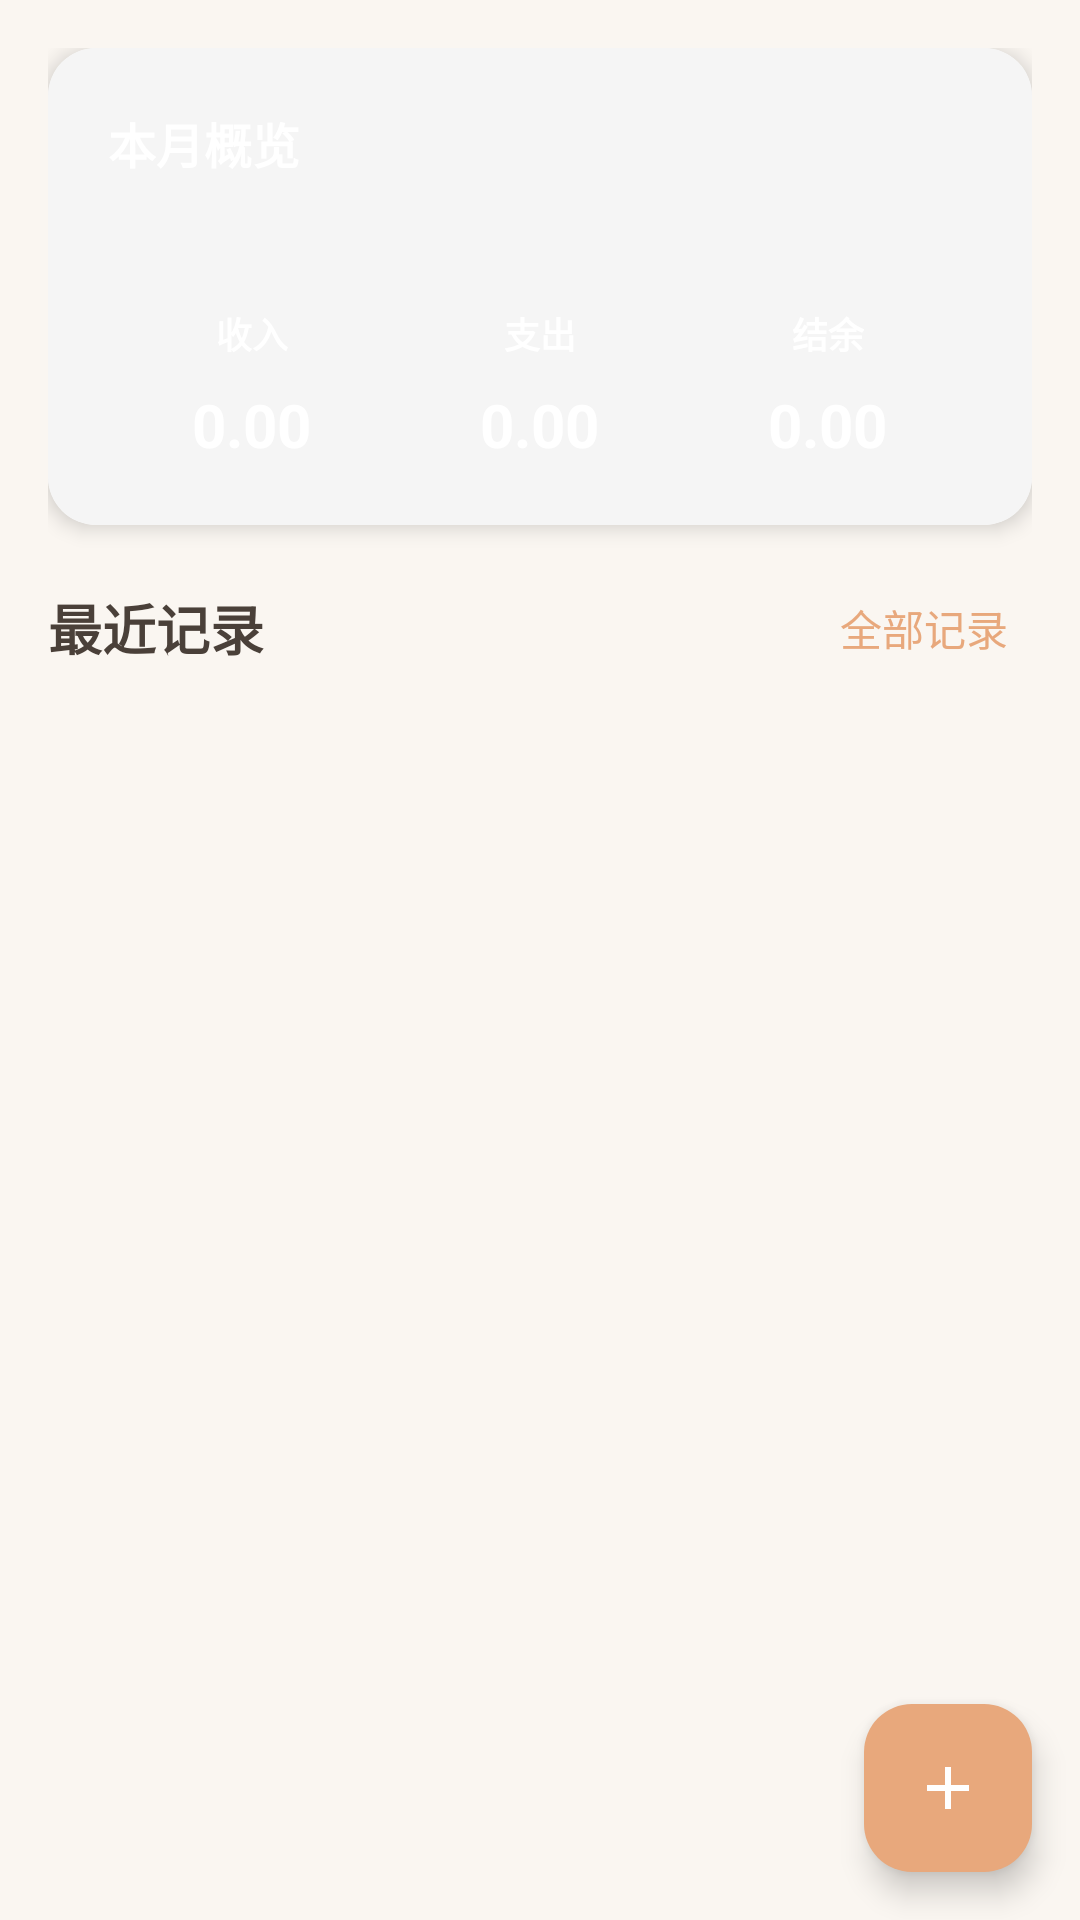

Point at icon controls on the screen. Image size 1080x1920, points as [x,y].
添加记录: [948,1788]
